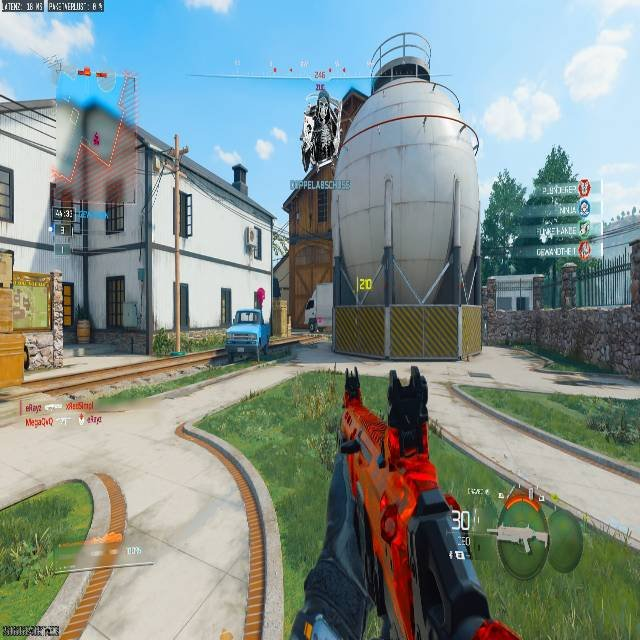head: (365, 30, 434, 90)
player: (338, 30, 479, 155), (305, 305, 319, 333)
